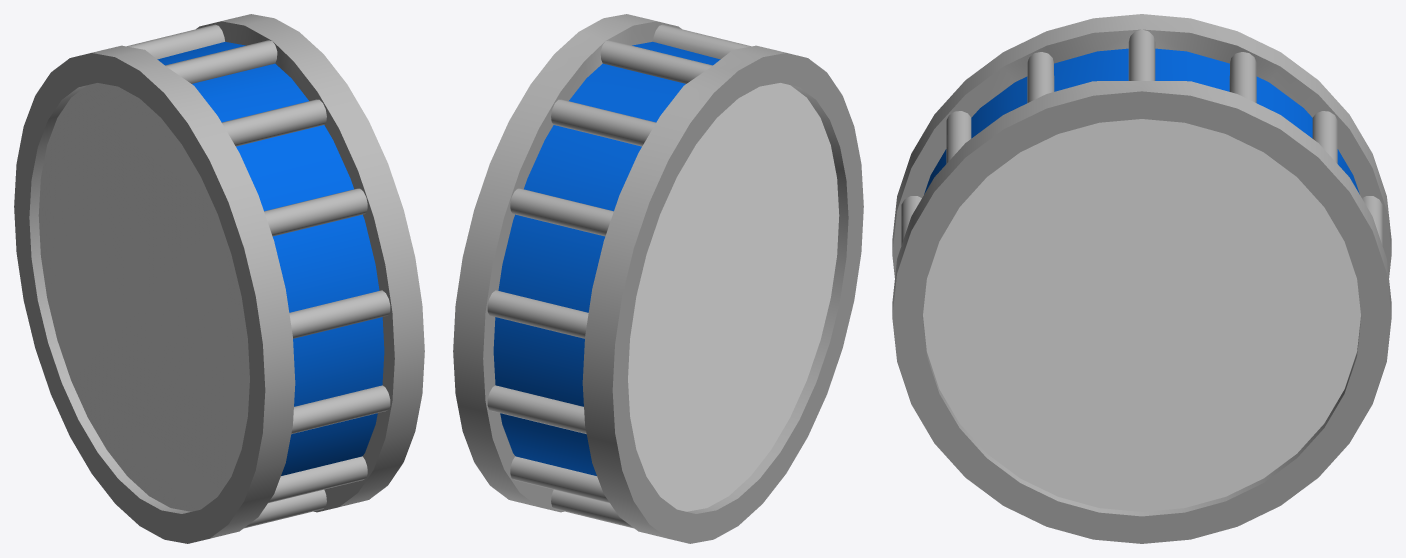
File: Bateria(Completa).fbx
3 renders of one model, left to right at view 1: azimuth 30°, elevation 25°; view 2: azimuth 150°, elevation 25°; view 3: azimuth 270°, elevation 25°, orthographic.
Parts seen in each view (by area): view 1: Bombo; view 2: Bombo; view 3: Bombo.
Part boxes in pixels (<box>): Bombo: <box>14,14,424,543</box>; Bombo: <box>453,14,863,543</box>; Bombo: <box>892,14,1391,543</box>.
Bounding box in the file's own units: 60 × 164 × 164.
